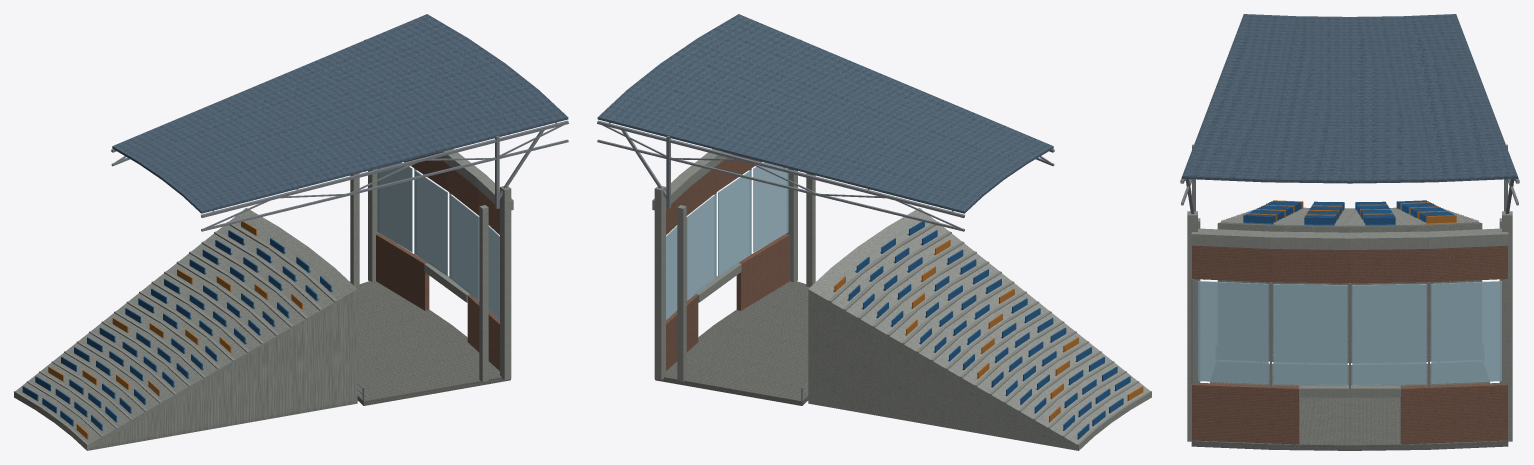
File: PZ_Stadium_Curved_Entrance_Bay_15Deg.glb
3 views of the same model, side by side, from view 1: azimuth 30°, elevation 25°; view 2: azimuth 150°, elevation 25°; view 3: azimuth 270°, elevation 25° (orthographic). The views are drawn at different scales.
Parts seen in each view (by area): view 1: REPEATABLE_CURVE_ENTRY_BAY__ROOF_SHEET, REPEATABLE_CURVE_ENTRY_BAY__SUPPORT_CONCRETE, REPEATABLE_CURVE_ENTRY_BAY__CONCOURSE_WALKABLE_FLOOR, REPEATABLE_CURVE_ENTRY_BAY__GLAZED_FACADE, REPEATABLE_CURVE_ENTRY_BAY__TERRACE_TREADS, REPEATABLE_CURVE_ENTRY_BAY__SEAT_BLUE, REPEATABLE_CURVE_ENTRY_BAY__FACADE_BRICK_INFILL, REPEATABLE_CURVE_ENTRY_BAY__FACADE_PIERS, REPEATABLE_CURVE_ENTRY_BAY__ROOF_TRUSS_CHORD, REPEATABLE_CURVE_ENTRY_BAY__CONCOURSE_COLUMNS, REPEATABLE_CURVE_ENTRY_BAY__FACADE_UPPER_FRIEZE, REPEATABLE_CURVE_ENTRY_BAY__SEAT_AMBER (+3 smaller); view 2: REPEATABLE_CURVE_ENTRY_BAY__ROOF_SHEET, REPEATABLE_CURVE_ENTRY_BAY__SUPPORT_CONCRETE, REPEATABLE_CURVE_ENTRY_BAY__CONCOURSE_WALKABLE_FLOOR, REPEATABLE_CURVE_ENTRY_BAY__GLAZED_FACADE, REPEATABLE_CURVE_ENTRY_BAY__TERRACE_TREADS, REPEATABLE_CURVE_ENTRY_BAY__SEAT_BLUE, REPEATABLE_CURVE_ENTRY_BAY__FACADE_BRICK_INFILL, REPEATABLE_CURVE_ENTRY_BAY__FACADE_PIERS, REPEATABLE_CURVE_ENTRY_BAY__ROOF_TRUSS_CHORD, REPEATABLE_CURVE_ENTRY_BAY__CONCOURSE_COLUMNS, REPEATABLE_CURVE_ENTRY_BAY__FACADE_UPPER_FRIEZE, REPEATABLE_CURVE_ENTRY_BAY__SEAT_AMBER (+3 smaller); view 3: REPEATABLE_CURVE_ENTRY_BAY__ROOF_SHEET, REPEATABLE_CURVE_ENTRY_BAY__GLAZED_FACADE, REPEATABLE_CURVE_ENTRY_BAY__FACADE_BRICK_INFILL, REPEATABLE_CURVE_ENTRY_BAY__FACADE_UPPER_FRIEZE, REPEATABLE_CURVE_ENTRY_BAY__CONCOURSE_WALKABLE_FLOOR, REPEATABLE_CURVE_ENTRY_BAY__FACADE_CORNICE, REPEATABLE_CURVE_ENTRY_BAY__FACADE_PIERS, REPEATABLE_CURVE_ENTRY_BAY__SUPPORT_CONCRETE, REPEATABLE_CURVE_ENTRY_BAY__SEAT_BLUE, REPEATABLE_CURVE_ENTRY_BAY__TERRACE_TREADS, REPEATABLE_CURVE_ENTRY_BAY__ENTRANCE_LINTEL, REPEATABLE_CURVE_ENTRY_BAY__SEAT_AMBER (+1 smaller).
Boxes of the visible parts, <box> form: REPEATABLE_CURVE_ENTRY_BAY__ROOF_SHEET: <box>112,14,568,213</box>; REPEATABLE_CURVE_ENTRY_BAY__SUPPORT_CONCRETE: <box>14,208,357,450</box>; REPEATABLE_CURVE_ENTRY_BAY__CONCOURSE_WALKABLE_FLOOR: <box>356,281,510,405</box>; REPEATABLE_CURVE_ENTRY_BAY__GLAZED_FACADE: <box>377,162,499,320</box>; REPEATABLE_CURVE_ENTRY_BAY__TERRACE_TREADS: <box>14,221,347,447</box>; REPEATABLE_CURVE_ENTRY_BAY__SEAT_BLUE: <box>22,230,332,430</box>; REPEATABLE_CURVE_ENTRY_BAY__FACADE_BRICK_INFILL: <box>376,233,499,370</box>; REPEATABLE_CURVE_ENTRY_BAY__FACADE_PIERS: <box>368,168,511,380</box>; REPEATABLE_CURVE_ENTRY_BAY__ROOF_TRUSS_CHORD: <box>111,120,568,231</box>; REPEATABLE_CURVE_ENTRY_BAY__CONCOURSE_COLUMNS: <box>350,173,488,381</box>; REPEATABLE_CURVE_ENTRY_BAY__FACADE_UPPER_FRIEZE: <box>404,154,499,234</box>; REPEATABLE_CURVE_ENTRY_BAY__SEAT_AMBER: <box>48,221,304,439</box>; REPEATABLE_CURVE_ENTRY_BAY__ROOF_SHEET: <box>597,14,1053,213</box>; REPEATABLE_CURVE_ENTRY_BAY__SUPPORT_CONCRETE: <box>808,208,1151,450</box>; REPEATABLE_CURVE_ENTRY_BAY__CONCOURSE_WALKABLE_FLOOR: <box>655,281,809,405</box>; REPEATABLE_CURVE_ENTRY_BAY__GLAZED_FACADE: <box>666,162,788,320</box>; REPEATABLE_CURVE_ENTRY_BAY__TERRACE_TREADS: <box>818,221,1151,446</box>; REPEATABLE_CURVE_ENTRY_BAY__SEAT_BLUE: <box>847,221,1130,439</box>; REPEATABLE_CURVE_ENTRY_BAY__FACADE_BRICK_INFILL: <box>666,233,789,370</box>; REPEATABLE_CURVE_ENTRY_BAY__FACADE_PIERS: <box>654,168,797,380</box>; REPEATABLE_CURVE_ENTRY_BAY__ROOF_TRUSS_CHORD: <box>597,120,1054,231</box>; REPEATABLE_CURVE_ENTRY_BAY__CONCOURSE_COLUMNS: <box>677,173,815,381</box>; REPEATABLE_CURVE_ENTRY_BAY__FACADE_UPPER_FRIEZE: <box>666,154,761,234</box>; REPEATABLE_CURVE_ENTRY_BAY__SEAT_AMBER: <box>833,240,1143,422</box>; REPEATABLE_CURVE_ENTRY_BAY__ROOF_SHEET: <box>1182,14,1517,183</box>; REPEATABLE_CURVE_ENTRY_BAY__GLAZED_FACADE: <box>1198,281,1501,385</box>; REPEATABLE_CURVE_ENTRY_BAY__FACADE_BRICK_INFILL: <box>1192,382,1507,444</box>; REPEATABLE_CURVE_ENTRY_BAY__FACADE_UPPER_FRIEZE: <box>1192,245,1507,283</box>; REPEATABLE_CURVE_ENTRY_BAY__CONCOURSE_WALKABLE_FLOOR: <box>1191,363,1508,450</box>; REPEATABLE_CURVE_ENTRY_BAY__FACADE_CORNICE: <box>1191,228,1508,249</box>; REPEATABLE_CURVE_ENTRY_BAY__FACADE_PIERS: <box>1187,211,1512,441</box>; REPEATABLE_CURVE_ENTRY_BAY__SUPPORT_CONCRETE: <box>1217,222,1482,363</box>; REPEATABLE_CURVE_ENTRY_BAY__SEAT_BLUE: <box>1243,200,1454,225</box>; REPEATABLE_CURVE_ENTRY_BAY__TERRACE_TREADS: <box>1221,207,1478,225</box>; REPEATABLE_CURVE_ENTRY_BAY__ENTRANCE_LINTEL: <box>1299,385,1400,397</box>; REPEATABLE_CURVE_ENTRY_BAY__SEAT_AMBER: <box>1247,200,1456,224</box>.
Bounding box in the file's own units: 40.37 × 21.45 × 21.89.
8 materials, 7 textured.
